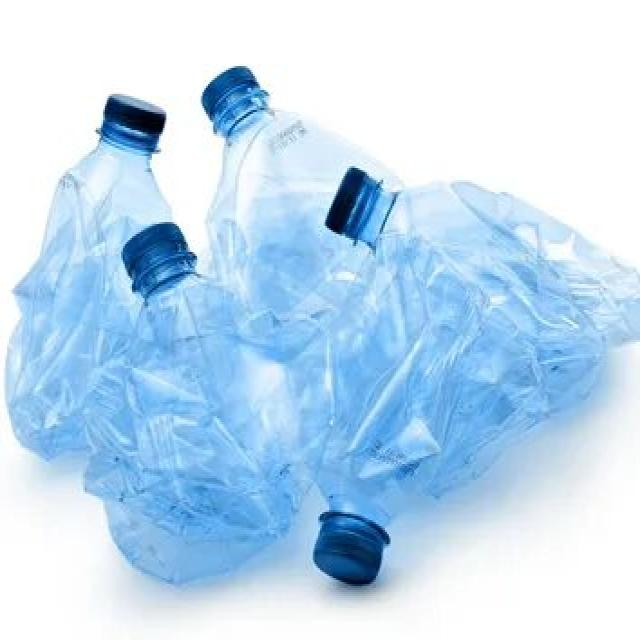blue: (81, 252, 336, 580), (310, 233, 547, 528), (6, 140, 169, 460), (202, 108, 381, 333)
